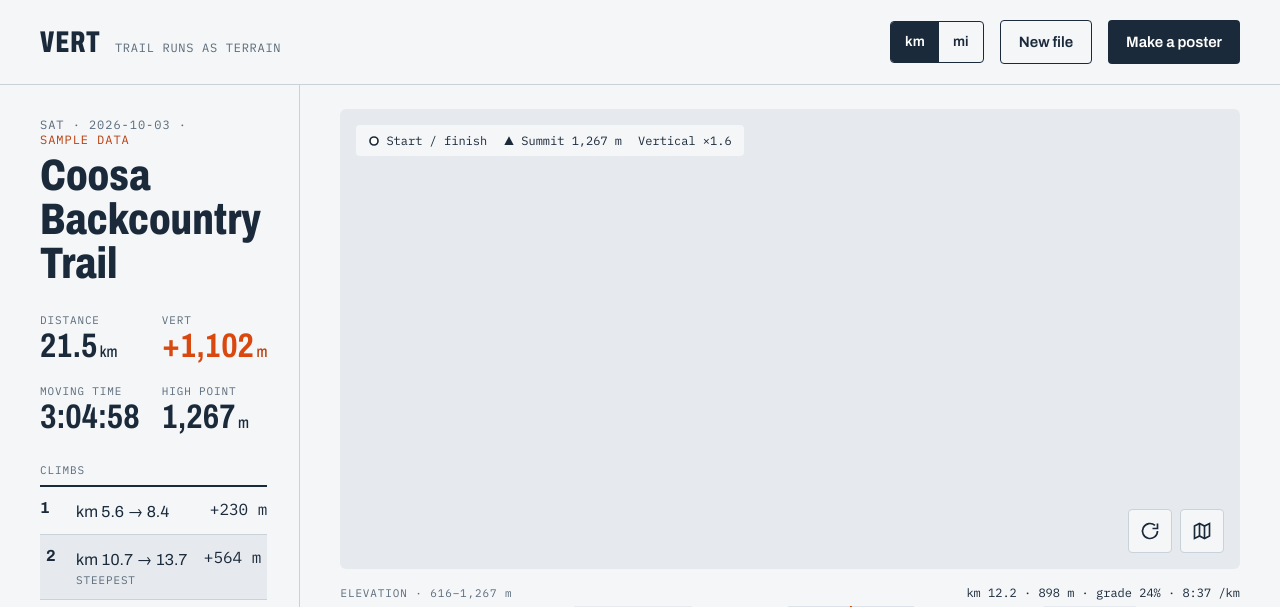
it: The View’s live terrain › labels a loop as a loop, a point-to-point run from start to finish, in the chosen units
This screenshot has width=1280, height=607.
Expected: the picture named "3D terrain of Coosa Backcountry Trail: 21.5 km loop, start and finish marked with a circle, summit 1,267 m marked with a" is shown, [340,109,640,259]
Click the radio button labelled "mi".
click(961, 42)  # box [953,34,968,49]
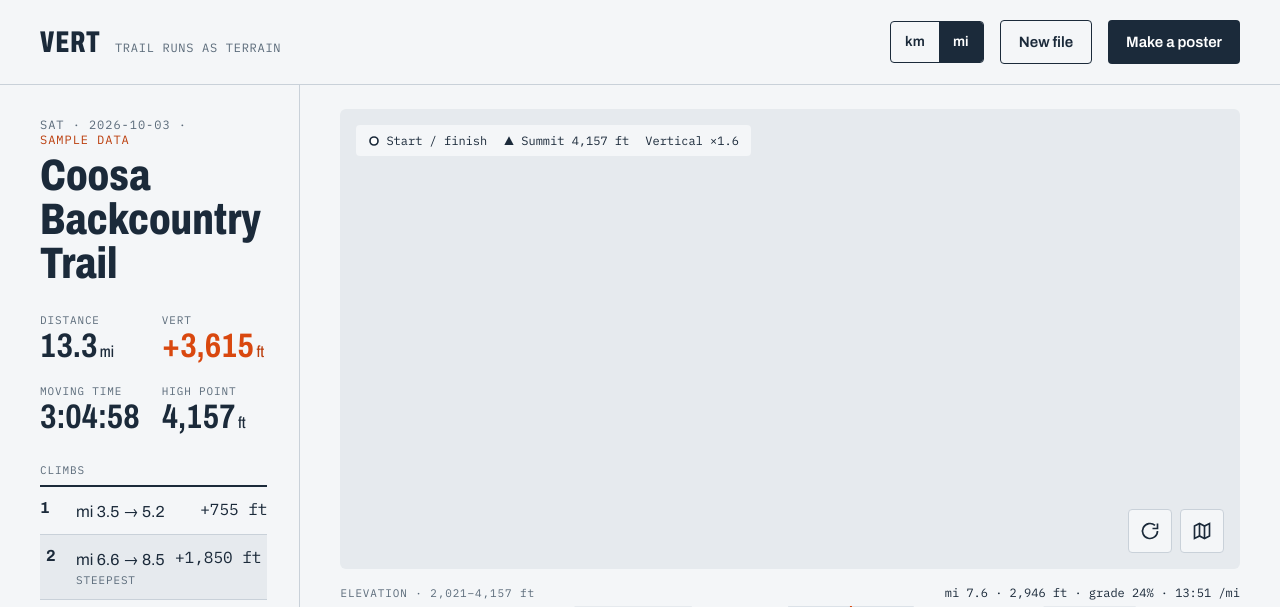
Expected: the picture named "3D terrain of Coosa Backcountry Trail: 13.3 mi loop, start a" is shown, [340,109,640,259]
